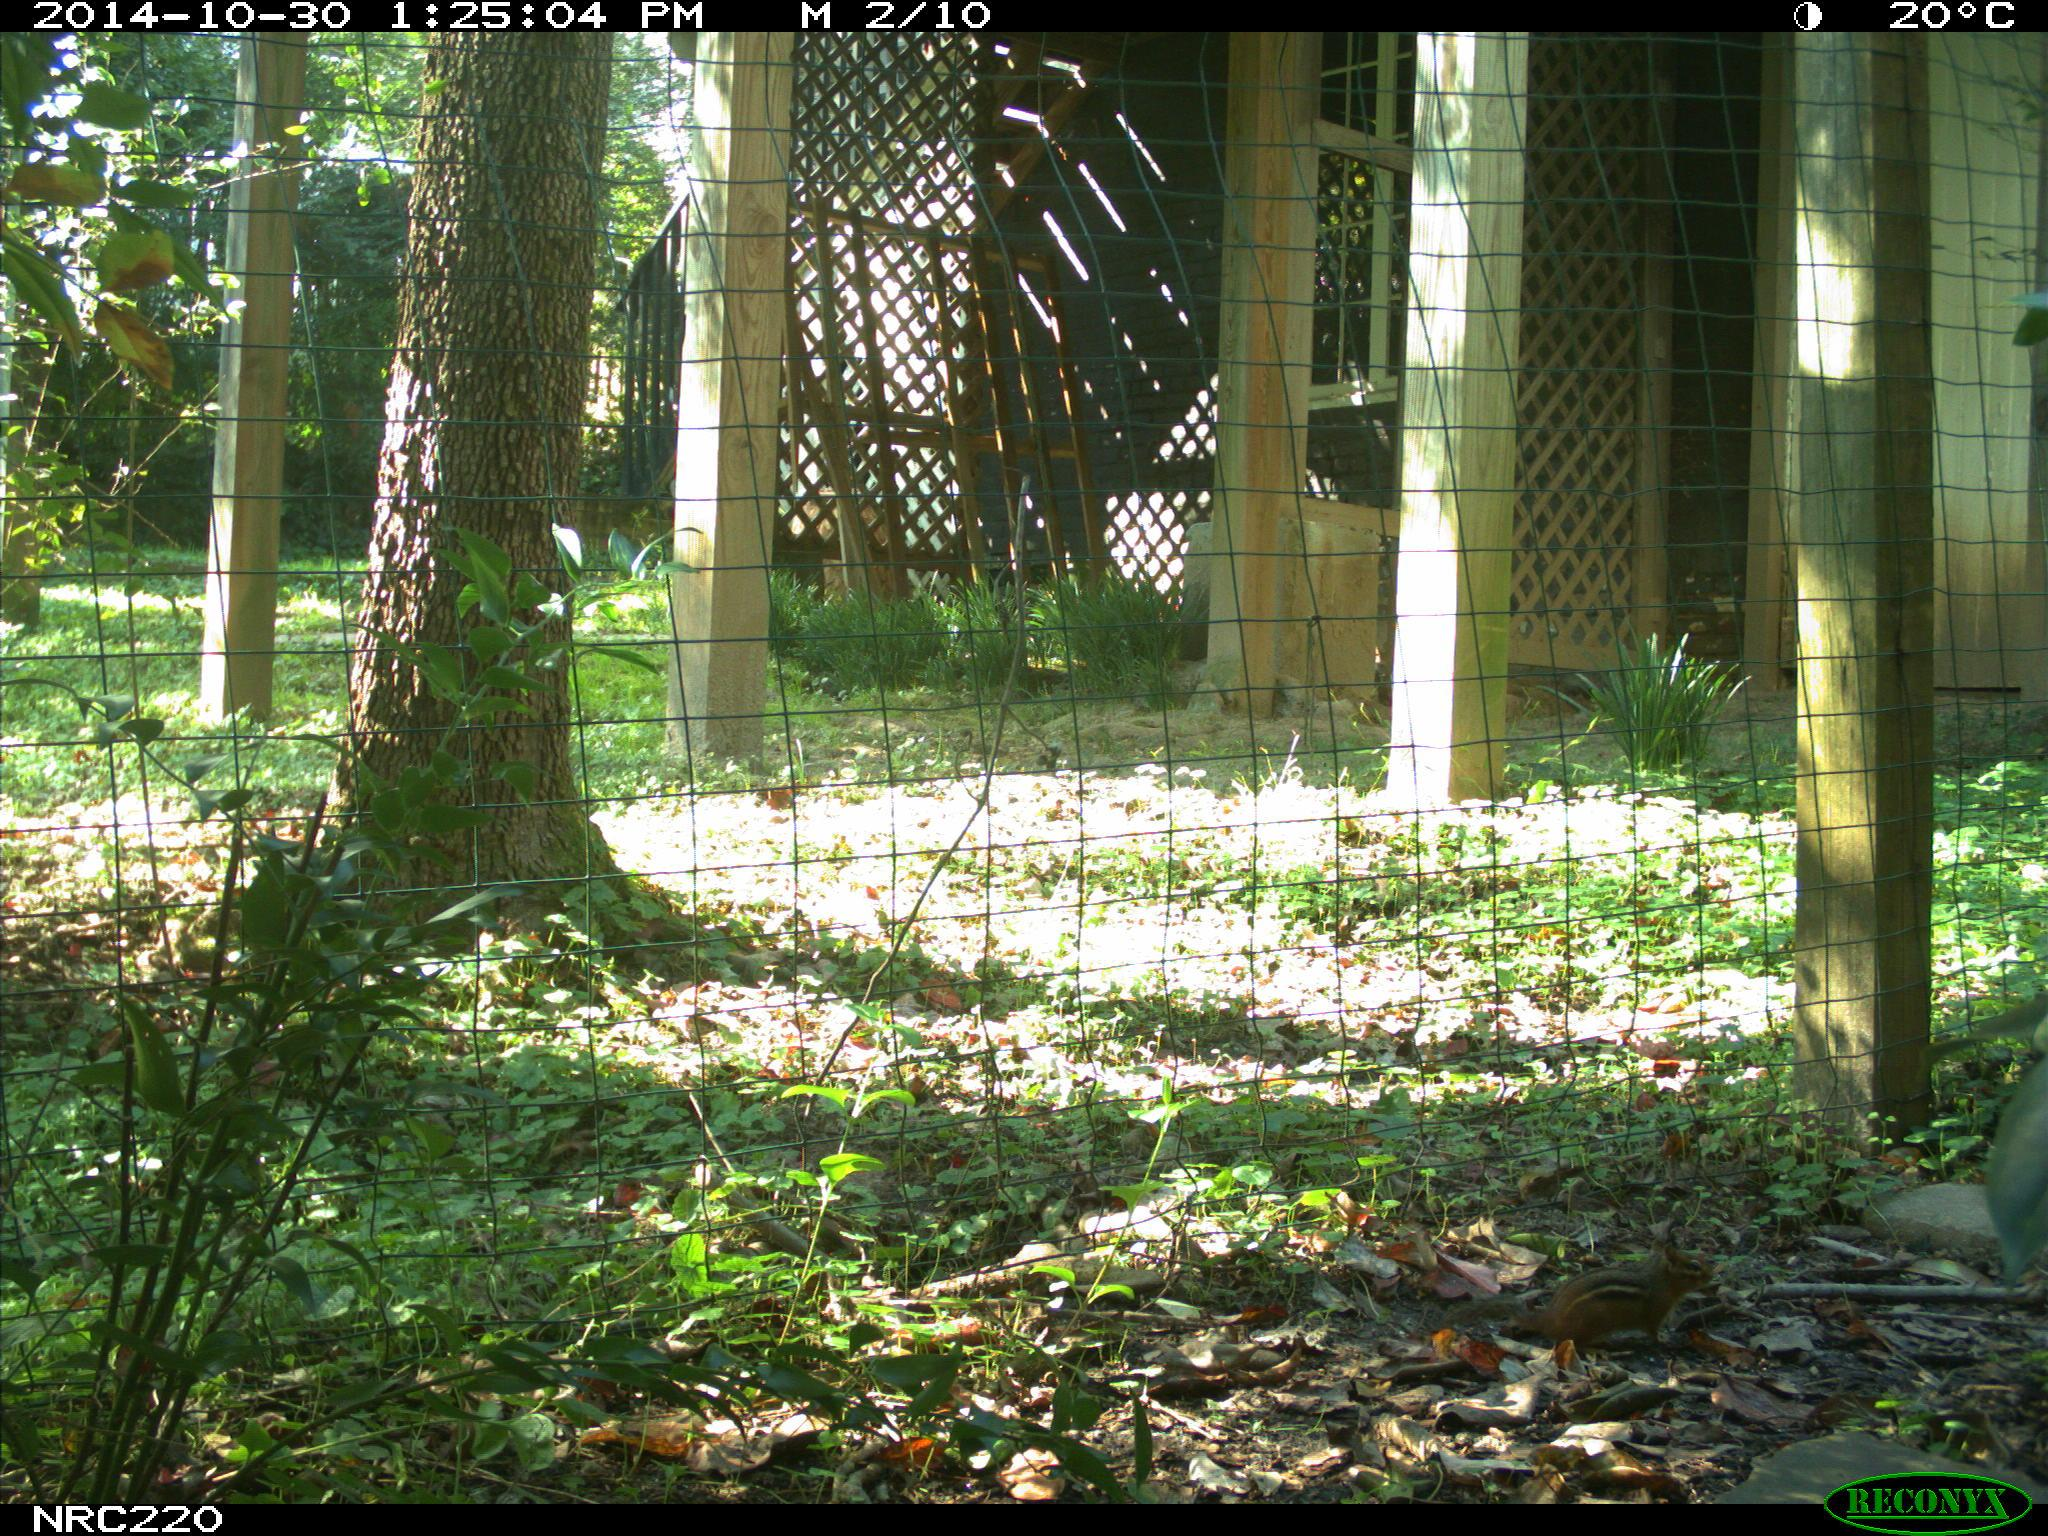Animal: (1484, 1238, 1713, 1350)
